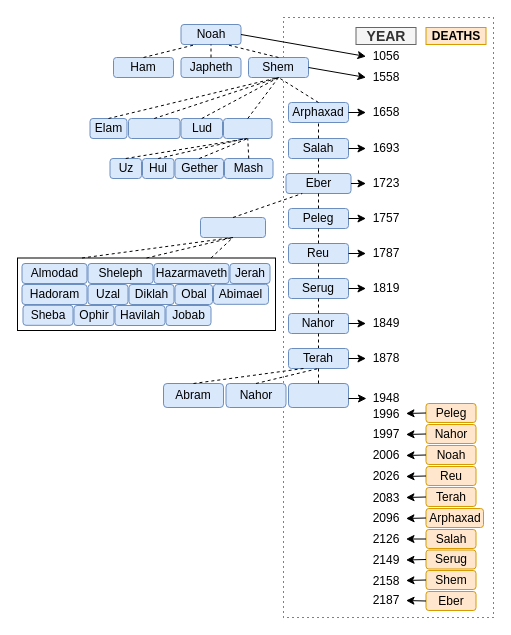
Image size: 511x635. Some labels were removed from this diagram. The shapes that lost their labels are listed below. From the top down, each one's box as (x1, y1, x2, y2) in pixels, then its label:
(128, 118, 180, 138): Asshur
(222, 118, 272, 138): Aram
(200, 216, 266, 238): Joktan
(288, 382, 348, 408): Haran
